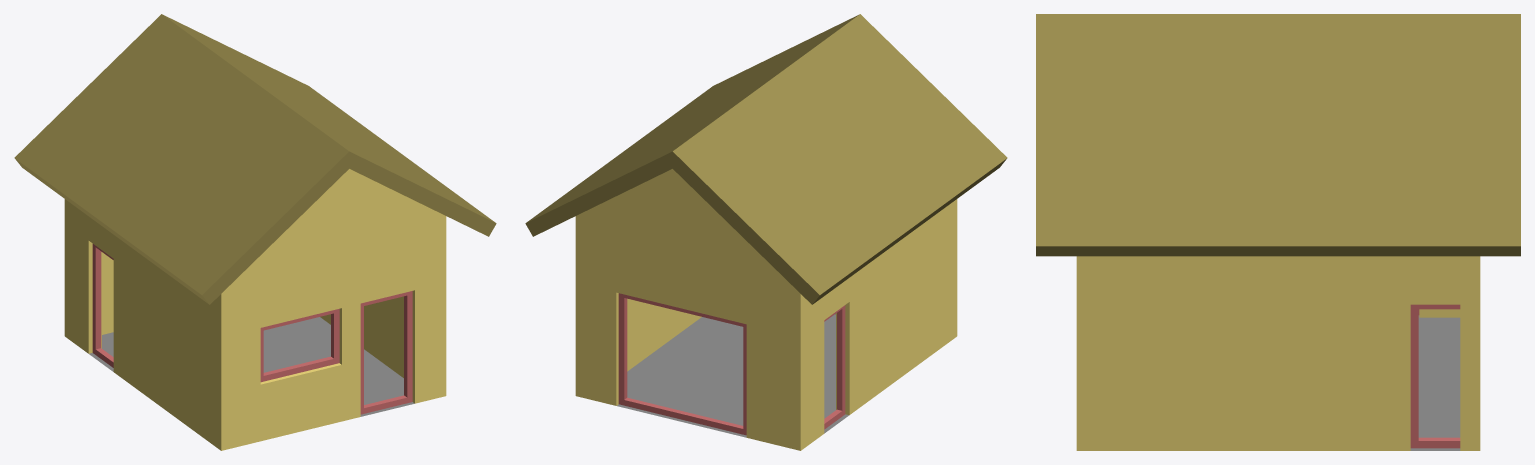
File: result.glb
3 renders of one model, left to right at view 1: azimuth 30°, elevation 25°; view 2: azimuth 150°, elevation 25°; view 3: azimuth 270°, elevation 25°, orthographic. The views are drawn at different scales.
Visible parts, largest first — view 1: c5cf9b6d-7a30-403a-8f8d-c8bdea689a84__undefined, 143ad95a-e9ae-471f-8f96-3dd8808689d6__undefined (×2), 751a4d33-8a0d-4366-bc65-8be87720605d__Plane_6, 9c26ec81-2de0-4215-8fa0-fa4bc3ed269d__Box, 66a97b4a-4c78-41bc-8b1d-0ee653ecc15e__Box_3, cf094e9c-1eec-4702-86c5-a7e07a7497f8__Box_12; view 2: 143ad95a-e9ae-471f-8f96-3dd8808689d6__undefined (×2), c5cf9b6d-7a30-403a-8f8d-c8bdea689a84__undefined, 751a4d33-8a0d-4366-bc65-8be87720605d__Plane_6, b5cfc468-5e1e-4798-b25c-f031bb5cc312__Box_9, cf094e9c-1eec-4702-86c5-a7e07a7497f8__Box_12; view 3: 143ad95a-e9ae-471f-8f96-3dd8808689d6__undefined, c5cf9b6d-7a30-403a-8f8d-c8bdea689a84__undefined, 751a4d33-8a0d-4366-bc65-8be87720605d__Plane_6, 2b172d90-aeb4-4ead-85a8-0ef0c18b07ea__Box_15.
Part boxes in pixels (box(x1,y1,x2,y2)): c5cf9b6d-7a30-403a-8f8d-c8bdea689a84__undefined: box(64, 169, 446, 450); 143ad95a-e9ae-471f-8f96-3dd8808689d6__undefined (×2): box(14, 14, 496, 304); 751a4d33-8a0d-4366-bc65-8be87720605d__Plane_6: box(89, 317, 414, 416); 9c26ec81-2de0-4215-8fa0-fa4bc3ed269d__Box: box(360, 291, 412, 414); 66a97b4a-4c78-41bc-8b1d-0ee653ecc15e__Box_3: box(260, 308, 339, 382); cf094e9c-1eec-4702-86c5-a7e07a7497f8__Box_12: box(92, 244, 113, 367); 143ad95a-e9ae-471f-8f96-3dd8808689d6__undefined (×2): box(525, 14, 1007, 304); c5cf9b6d-7a30-403a-8f8d-c8bdea689a84__undefined: box(575, 169, 957, 450); 751a4d33-8a0d-4366-bc65-8be87720605d__Plane_6: box(617, 314, 848, 437); b5cfc468-5e1e-4798-b25c-f031bb5cc312__Box_9: box(618, 293, 746, 435); cf094e9c-1eec-4702-86c5-a7e07a7497f8__Box_12: box(824, 305, 845, 429); 143ad95a-e9ae-471f-8f96-3dd8808689d6__undefined: box(1036, 14, 1520, 256); c5cf9b6d-7a30-403a-8f8d-c8bdea689a84__undefined: box(1076, 256, 1480, 450); 751a4d33-8a0d-4366-bc65-8be87720605d__Plane_6: box(1410, 315, 1460, 450); 2b172d90-aeb4-4ead-85a8-0ef0c18b07ea__Box_15: box(1410, 304, 1460, 448).
Size of the model in its own units: 544 by 500 by 600.
